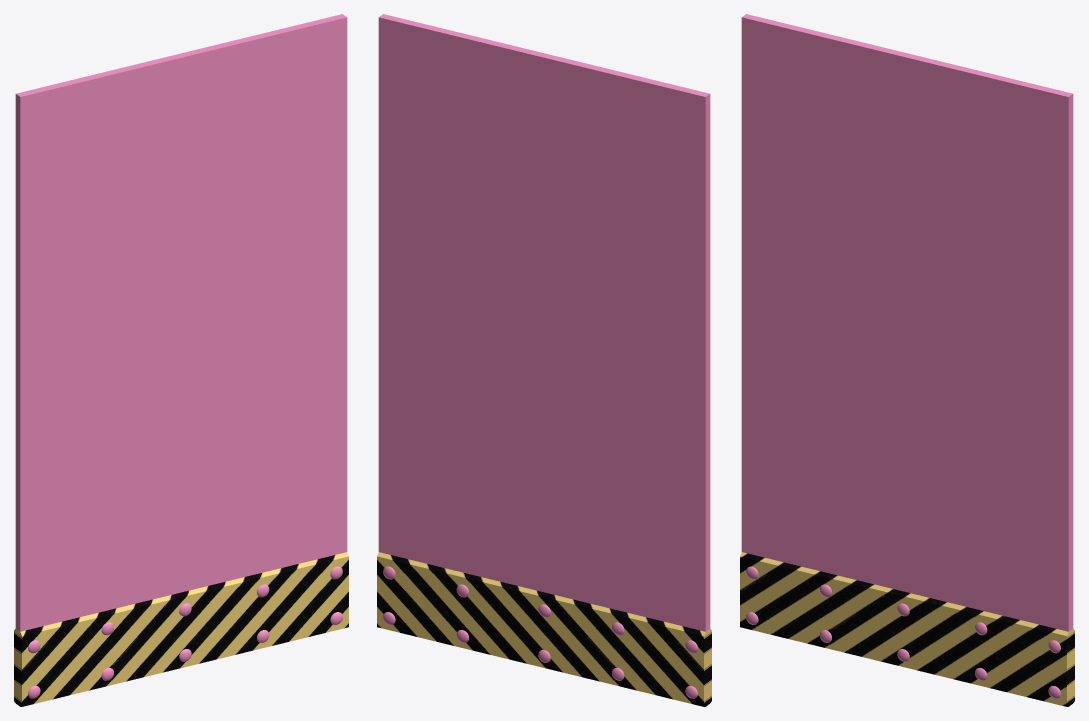
File: Door2high_anim.fbx
3 views of the same model, side by side, from view 1: azimuth 30°, elevation 25°; view 2: azimuth 150°, elevation 25°; view 3: azimuth 330°, elevation 25° (orthographic).
Parts seen in each view (by area): view 1: polySurface17; view 2: polySurface17; view 3: polySurface17.
Boxes of the visible parts, x1,y1,x2,y2 form: polySurface17: (14, 14, 348, 706); polySurface17: (377, 14, 711, 706); polySurface17: (740, 14, 1074, 706).
Size of the model in its own units: 413 by 737 by 23.55.
Materials: 1 (1 with a texture image).
